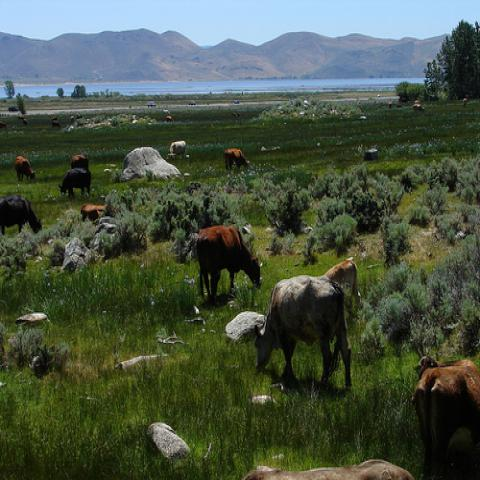car: (166, 116, 174, 122), (9, 107, 18, 112), (234, 100, 239, 104)
